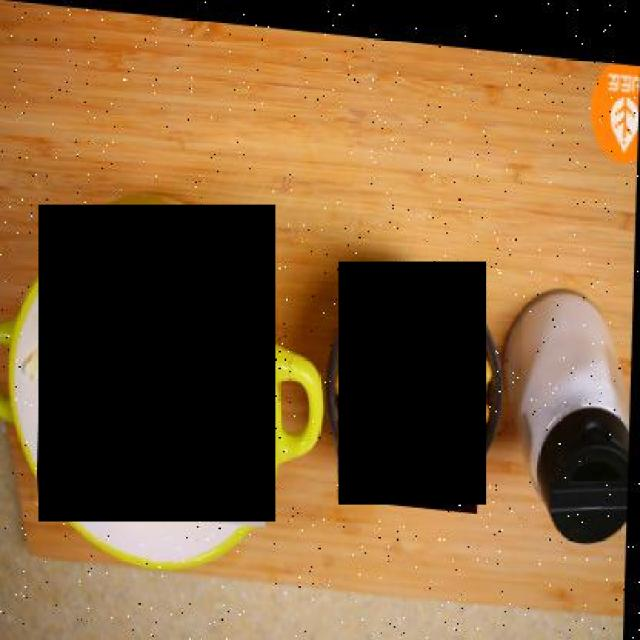Cheese: (39, 204, 276, 522)
Corn: (339, 262, 487, 504)
